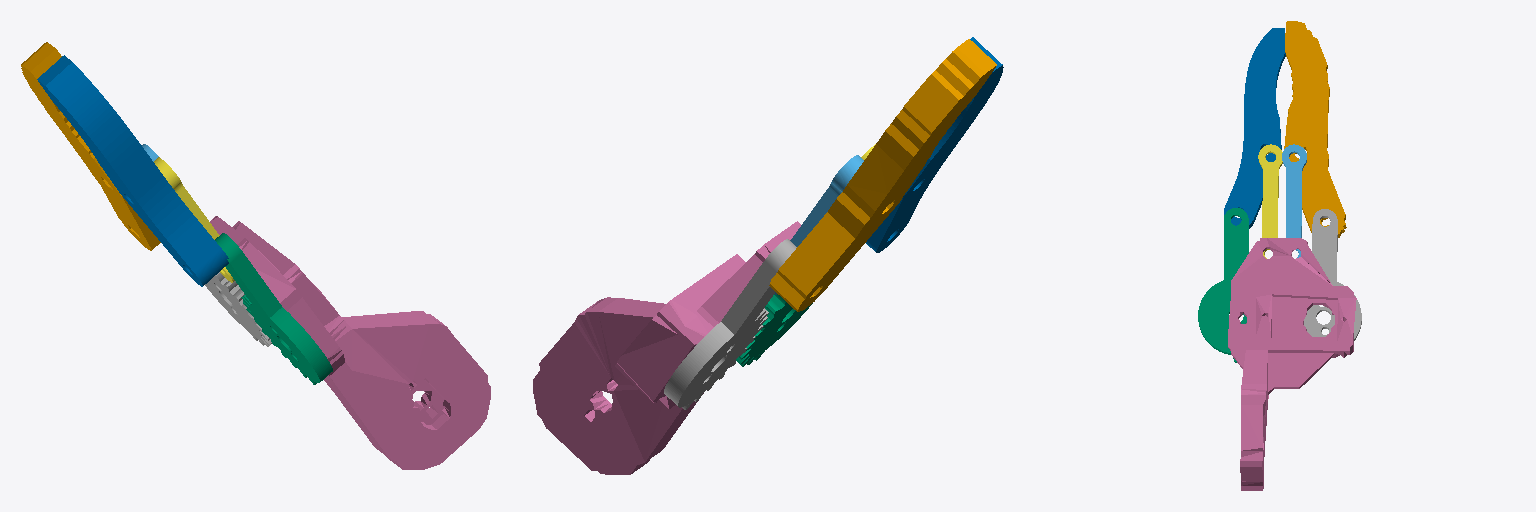
--- What the picture shows (computed from the rendered views, not written in the file) ---
The picture shows the robot from 3 angles, left to right: view 1: azimuth 30°, elevation 25°; view 2: azimuth 150°, elevation 25°; view 3: azimuth 270°, elevation 25°; orthographic projection.
Robot: tangs — 13 links, 12 joints (11 revolute, 1 fixed); root link tangs/world; default pose: all joints at 0.
Links seen in each view (by area): view 1: tangs/palm_link, tangs/r_finger_link, tangs/r_moment_arm_link, tangs/l_finger_link, tangs/l_moment_arm_link, tangs/r_truss_arm_link; view 2: tangs/palm_link, tangs/l_finger_link, tangs/l_moment_arm_link, tangs/r_finger_link, tangs/r_moment_arm_link, tangs/l_truss_arm_link; view 3: tangs/palm_link, tangs/l_finger_link, tangs/r_finger_link, tangs/r_moment_arm_link, tangs/l_moment_arm_link, tangs/l_truss_arm_link, tangs/r_truss_arm_link.
Link boxes in pixels (x1=…): tangs/palm_link: x1=210, y1=216, x2=490, y2=469; tangs/r_finger_link: x1=37, y1=55, x2=228, y2=286; tangs/r_moment_arm_link: x1=215, y1=233, x2=332, y2=384; tangs/l_finger_link: x1=21, y1=42, x2=160, y2=250; tangs/l_moment_arm_link: x1=205, y1=272, x2=271, y2=346; tangs/r_truss_arm_link: x1=154, y1=157, x2=234, y2=282; tangs/palm_link: x1=533, y1=221, x2=800, y2=474; tangs/l_finger_link: x1=769, y1=39, x2=996, y2=311; tangs/l_moment_arm_link: x1=664, y1=239, x2=796, y2=409; tangs/r_finger_link: x1=866, y1=37, x2=1003, y2=252; tangs/r_moment_arm_link: x1=736, y1=294, x2=812, y2=366; tangs/l_truss_arm_link: x1=775, y1=155, x2=863, y2=294; tangs/palm_link: x1=1228, y1=238, x2=1356, y2=490; tangs/l_finger_link: x1=1284, y1=21, x2=1346, y2=237; tangs/r_finger_link: x1=1224, y1=28, x2=1285, y2=228; tangs/r_moment_arm_link: x1=1198, y1=208, x2=1248, y2=362; tangs/l_moment_arm_link: x1=1304, y1=209, x2=1361, y2=340; tangs/l_truss_arm_link: x1=1282, y1=144, x2=1306, y2=257; tangs/r_truss_arm_link: x1=1258, y1=144, x2=1282, y2=258.
Size in the robot's own frame: 0.1138 by 0.0521 by 0.1221 metres.
7 mesh visuals loaded from 11 distinct referenced files (6 binary STL); not drawn: 5 (reference not matched to a file when rendering).

URDF robot description (tangs):
<?xml version="1.0" ?>
<!-- =================================================================================== -->
<!-- |    This document was autogenerated by xacro from /projeto_1_PosDoc/catkin_ws/src/tangs_arm/tangs_description/urdf/tangs.xacro | -->
<!-- |    EDITING THIS FILE BY HAND IS NOT RECOMMENDED                                 | -->
<!-- =================================================================================== -->
<robot name="tangs">
    <!-- Hand -->
    <gazebo reference="tangs/hand_link">
        <kp>1000000000000.0</kp>
        <kd>10</kd>
        <mu1>10.0</mu1>
        <mu2>10.0</mu2>
        <material>Gazebo/White</material>
        <selfCollide>false</selfCollide>
        <plugin name="gazebo_ros_control" filename="libgazebo_ros_control.so">
            <robotNamespace>/</robotNamespace>
        </plugin>
    </gazebo>
    <!-- Left Finger -->
    <gazebo reference="tangs/l_moment_arm_link">
        <kp>1000000000000.0</kp>
        <kd>10</kd>
        <mu1>10.0</mu1>
        <mu2>10.0</mu2>
        <material>Gazebo/White</material>
        <selfCollide>false</selfCollide>
    </gazebo>
    <gazebo reference="tangs/l_truss_arm_link">
        <kp>1000000000000.0</kp>
        <kd>10</kd>
        <mu1>10.0</mu1>
        <mu2>10.0</mu2>
        <material>Gazebo/White</material>
        <selfCollide>false</selfCollide>
    </gazebo>
    <gazebo reference="tangs/l_finger">
        <kp>1000000000000.0</kp>
        <kd>10</kd>
        <mu1>10.0</mu1>
        <mu2>10.0</mu2>
        <material>Gazebo/White</material>
        <selfCollide>false</selfCollide>
    </gazebo>
    <!-- Right Finger -->
    <gazebo reference="tangs/r_moment_arm_link">
        <kp>1000000000000.0</kp>
        <kd>10</kd>
        <mu1>10.0</mu1>
        <mu2>10.0</mu2>
        <material>Gazebo/White</material>
        <selfCollide>false</selfCollide>
    </gazebo>
    <gazebo reference="tangs/r_truss_arm_link">
        <kp>1000000000000.0</kp>
        <kd>10</kd>
        <mu1>10.0</mu1>
        <mu2>10.0</mu2>
        <material>Gazebo/White</material>
        <selfCollide>false</selfCollide>
    </gazebo>
    <gazebo reference="tangs/r_finger">
        <kp>1000000000000.0</kp>
        <kd>10</kd>
        <mu1>10.0</mu1>
        <mu2>10.0</mu2>
        <material>Gazebo/White</material>
        <selfCollide>false</selfCollide>
    </gazebo>
    <!-- Xmacro principal que gera a garra -->
    <!-- Properties -->
    <!-- Argumento para o prefixo TF -->
    <!-- Materiais -->
    <material name="Gazebo/Grey">
        <color rgba="0.7 0.7 0.7 1.0" />
    </material>
    <!-- <material name="link_body_material">
    <color rgba="0.8 0.8 0.8 1.0"/>
</material> -->
    <!-- Chamada das macros para geração do braço robótico -->
    <link name="tangs/world" />
    <link name="tangs/link_base">
        <visual>
            <origin rpy="0 0 0" xyz="0 0 0" />
            <geometry>
                <mesh filename="package://tangs_description/models/thangs3/link_base.stl" />
            </geometry>
            <material name="Gazebo/Grey" />
        </visual>
        <inertial>
            <origin rpy="0 0 0" xyz="0 0 -0.30" />
            <mass value="0.620" />
            <inertia ixx="0.010581333333333333" ixy="0" ixz="0" iyy="0.010581333333333333" iyz="0" izz="0.010581333333333333" />
        </inertial>
        <collision>
            <origin rpy="0 0 0" xyz="0 0 0.03" />
            <geometry>
                <!-- <mesh filename="package://tangs_description/models/thangs3/link_base.stl"/> -->
                <box size="0.12 0.12 0.06" />
            </geometry>
        </collision>
    </link>
    <gazebo reference="tangs/link_base">
        <kp>1000000000000.0</kp>
        <!-- static contact stiffness - very rigid, bigger values closes to the marble -->
        <kd>10</kd>
        <!-- static dynamic stiffness very rigid, bigger values closes to the marble -->
        <mu1>10.0</mu1>
        <!-- Static Friction Coeficient -->
        <mu2>10.0</mu2>
        <!-- Dynamic Friction Coeficient -->
        <material>Gazebo/Grey</material>
        <static>true</static>
        <selfCollide>true</selfCollide>
    </gazebo>
    <joint name="tangs/base_joint" type="fixed">
        <parent link="tangs/world" />
        <child link="tangs/link_base" />
        <origin rpy="0 0 0" xyz="0.0 0 0.0" />
    </joint>
    <link name="tangs/link_body">
        <visual>
            <origin rpy="0 0 0" xyz="0 0 0" />
            <geometry>
                <mesh filename="package://tangs_description/models/thangs3/link_body.stl" />
            </geometry>
            <material name="Gazebo/Grey" />
        </visual>
        <collision>
            <origin rpy="0 0 0" xyz="0 0 0" />
            <geometry>
                <!-- <cylinder radius="0.050" length="0.067" /> -->
                <mesh filename="package://tangs_description/models/thangs3/link_body.stl" />
            </geometry>
        </collision>
        <inertial>
            <origin rpy="0 0 0" xyz="-6.44e-03 1.36e-03 1.73e-02" />
            <mass value="8.50e-02" />
            <inertia ixx="0.002" ixy="0.0" ixz="0.0" iyy="0.02" iyz="0.0" izz="0.002" />
        </inertial>
    </link>
    <joint name="tangs/waist" type="revolute">
        <origin rpy="0 0 1.55" xyz="0 0 5.60e-02" />
        <parent link="tangs/link_base" />
        <child link="tangs/link_body" />
        <axis xyz="0 0 1" />
        <limit effort="300" lower="-1.570796327" upper="1.570796327" velocity="3" />
        <dynamics damping="0.3" friction="0.0" />
    </joint>
    <gazebo reference="tangs/link_body">
        <kp>1000000000000.0</kp>
        <!-- static contact stiffness - very rigid, bigger values closes to the marble -->
        <kd>10</kd>
        <!-- static dynamic stiffness very rigid, bigger values closes to the marble -->
        <mu1>10.0</mu1>
        <!-- Static Friction Coeficient -->
        <mu2>10.0</mu2>
        <!-- Dynamic Friction Coeficient -->
        <material>Gazebo/Grey</material>
        <selfCollide>true</selfCollide>
    </gazebo>
    <transmission name="tran1">
        <type>transmission_interface/SimpleTransmission</type>
        <joint name="tangs/waist">
            <hardwareInterface>hardware_interface/PositionJointInterface</hardwareInterface>
        </joint>
        <actuator name="motor1">
            <hardwareInterface>hardware_interface/PositionJointInterface</hardwareInterface>
            <mechanicalReduction>1</mechanicalReduction>
        </actuator>
    </transmission>
    <link name="tangs/link_arm">
        <visual>
            <origin rpy="3.141592654 0 -1.570796327" xyz="-5.77e-02 6.02e-04 0" />
            <geometry>
                <mesh filename="package://tangs_description/models/thangs3/link_arm.stl" />
            </geometry>
            <material name="Gazebo/Grey" />
        </visual>
        <collision>
            <origin rpy="3.141592654 0 -1.570796327" xyz="-5.77e-02 6.02e-04 0" />
            <geometry>
                <mesh filename="package://tangs_description/models/thangs3/link_arm.stl" />
            </geometry>
        </collision>
        <inertial>
            <origin rpy="0 0 0" xyz="-5.92e-02 0 -7.79e-03" />
            <mass value="8.50e-03" />
            <inertia ixx="0.002" ixy="0.0" ixz="0.0" iyy="0.02" iyz="0.0" izz="0.002" />
        </inertial>
    </link>
    <joint name="tangs/shoulder" type="revolute">
        <origin rpy="1.570796327 1.570796327 -1.570796327" xyz="-4.00e-03 1.40e-02 4.03e-02" />
        <parent link="tangs/link_body" />
        <child link="tangs/link_arm" />
        <axis xyz="0 0 1" />
        <limit effort="200" lower="-1.570796327" upper="1.570796327" velocity="3" />
        <joint_properties friction="0.0" />
    </joint>
    <gazebo reference="tangs/link_arm">
        <kp>1000000000000.0</kp>
        <kd>10</kd>
        <!-- static dynamic stiffness very rigid, bigger values closes to the marble -->
        <mu1>10.0</mu1>
        <!-- Static Friction Coeficient -->
        <mu2>10.0</mu2>
        <!-- Dynamic Friction Coeficient -->
        <material>Gazebo/Grey</material>
        <selfCollide>true</selfCollide>
    </gazebo>
    <transmission name="tran2">
        <type>transmission_interface/SimpleTransmission</type>
        <joint name="tangs/shoulder">
            <hardwareInterface>hardware_interface/PositionJointInterface</hardwareInterface>
        </joint>
        <actuator name="motor2">
            <hardwareInterface>hardware_interface/PositionJointInterface</hardwareInterface>
            <mechanicalReduction>1</mechanicalReduction>
        </actuator>
    </transmission>
    <link name="tangs/link_forearm">
        <visual>
            <origin rpy="-3.141592654 0 0" xyz="0 -3.22e-02 6.00e-03" />
            <geometry>
                <mesh filename="package://tangs_description/models/thangs3/link_forearm.stl" />
            </geometry>
            <material name="Gazebo/Grey" />
        </visual>
        <collision>
            <origin rpy="-3.141592654 0 0" xyz="0 -3.22e-02 6.00e-03" />
            <geometry>
                <mesh filename="package://tangs_description/models/thangs3/link_forearm.stl" />
            </geometry>
        </collision>
        <inertial>
            <origin rpy="0 0 0" xyz="0 -3.93e-02 -7.40e-03" />
            <mass value="5.28e-03" />
            <inertia ixx="0.002" ixy="0.0" ixz="0.0" iyy="0.02" iyz="0.0" izz="0.002" />
        </inertial>
    </link>
    <joint name="tangs/elbow" type="revolute">
        <origin rpy="3.141592654 0 6.09e-01" xyz="-1.20e-01 0 0" />
        <parent link="tangs/link_arm" />
        <child link="tangs/link_forearm" />
        <axis xyz="0 0 1" />
        <limit effort="200" lower="-2.5" upper="0.6" velocity="3" />
        <joint_properties friction="0.0" />
    </joint>
    <gazebo reference="tangs/link_forearm">
        <kp>1000000000000.0</kp>
        <!-- static contact stiffness - very rigid, bigger values closes to the marble -->
        <kd>10</kd>
        <!-- static dynamic stiffness very rigid, bigger values closes to the marble -->
        <mu1>10.0</mu1>
        <!-- Static Friction Coeficient -->
        <mu2>10.0</mu2>
        <!-- Dynamic Friction Coeficient -->
        <material>Gazebo/Grey</material>
        <selfCollide>true</selfCollide>
    </gazebo>
    <transmission name="tran3">
        <type>transmission_interface/SimpleTransmission</type>
        <joint name="tangs/elbow">
            <hardwareInterface>hardware_interface/PositionJointInterface</hardwareInterface>
        </joint>
        <actuator name="motor3">
            <hardwareInterface>hardware_interface/PositionJointInterface</hardwareInterface>
            <mechanicalReduction>1</mechanicalReduction>
        </actuator>
    </transmission>
    <link name="tangs/link_hand">
        <visual>
            <origin rpy="-1.570796327 0 0" xyz="4.99e-03 -1.40e-02 -2.30e-02" />
            <geometry>
                <mesh filename="package://tangs_description/models/thangs3/link_hand.stl" />
            </geometry>
            <material name="Gazebo/Grey" />
        </visual>
        <collision>
            <origin rpy="-1.570796327 0 0" xyz="4.99e-03 -1.40e-02 -2.30e-02" />
            <geometry>
                <mesh filename="package://tangs_description/models/thangs3/link_hand.stl" />
            </geometry>
        </collision>
        <inertial>
            <origin rpy="0 0 0" xyz="5.03e-03 -6.14e-03 -1.77e-02" />
            <mass value="1.83e-03" />
            <inertia ixx="0.002" ixy="0.0" ixz="0.0" iyy="0.02" iyz="0.0" izz="0.002" />
        </inertial>
    </link>
    <joint name="tangs/wrist_yaw" type="revolute">
        <origin rpy="-1.570796327 0 0" xyz="-5.31e-03 -8.97e-02 -7.51e-03" />
        <parent link="tangs/link_forearm" />
        <child link="tangs/link_hand" />
        <axis xyz="0 0 1" />
        <limit effort="200" lower="-1.570796327" upper="1.570796327" velocity="20" />
        <joint_properties friction="0.0" />
    </joint>
    <gazebo reference="tangs/link_hand">
        <kp>1000000000000.0</kp>
        <!-- static contact stiffness - very rigid, bigger values closes to the marble -->
        <kd>10</kd>
        <!-- static dynamic stiffness very rigid, bigger values closes to the marble -->
        <mu1>10.0</mu1>
        <!-- Static Friction Coeficient -->
        <mu2>10.0</mu2>
        <!-- Dynamic Friction Coeficient -->
        <material name="Gazebo/Grey" />
        <selfCollide>true</selfCollide>
    </gazebo>
    <transmission name="tran4">
        <type>transmission_interface/SimpleTransmission</type>
        <joint name="tangs/wrist_yaw">
            <hardwareInterface>hardware_interface/PositionJointInterface</hardwareInterface>
        </joint>
        <actuator name="motor4">
            <hardwareInterface>hardware_interface/PositionJointInterface</hardwareInterface>
            <mechanicalReduction>1</mechanicalReduction>
        </actuator>
    </transmission>
    <link name="tangs/palm_link">
        <collision>
            <origin rpy="3.141592654 -3.141592654 0.0" xyz="0.015 0.015 -0.018" />
            <geometry>
                <!-- <mesh filename="package://gripper_description/meshes/collision/RG3_Palm_col.stl"/> -->
                <mesh filename="package://gripper_description/meshes/visual/RG3_gripper_base_m_tk2.stl" />
            </geometry>
        </collision>
        <visual>
            <!-- <origin xyz="0.00 0.0015 -0.014" rpy="0.00 0.00 0.00"/> -->
            <origin rpy="3.141592654 -3.141592654 0.0" xyz="0.015 0.015 -0.018" />
            <geometry>
                <mesh filename="package://gripper_description/meshes/visual/RG3_gripper_base_m_tk2.stl" />
            </geometry>
        </visual>
        <inertial>
            <origin rpy="0.00 0.00 0.00" xyz="-0.061902 0.000129 -0.000005" />
            <mass value="0.02" />
            <inertia ixx="0.002" ixy="0.0" ixz="0.0" iyy="0.02" iyz="0.0" izz="0.002" />
        </inertial>
    </link>
    <link name="tangs/l_moment_arm_link">
        <collision>
            <origin rpy="0.00 0.00 3.01415" xyz="0.01 -0.0021 0.0005" />
            <geometry>
                <mesh filename="package://gripper_description/meshes/visual/RG3_gear_left_m.stl" />
            </geometry>
        </collision>
        <visual>
            <origin rpy="0.00 0.00 3.01415" xyz="0.01 -0.0021 0.0005" />
            <geometry>
                <mesh filename="package://gripper_description/meshes/visual/RG3_gear_left_m.stl" />
            </geometry>
        </visual>
        <inertial>
            <origin rpy="0.00 0.00 0.00" xyz="0.017004 0.006397 -0.010300" />
            <mass value="0.0060209" />
            <inertia ixx="0.002" ixy="0.0" ixz="0.0" iyy="0.02" iyz="0.0" izz="0.002" />
        </inertial>
    </link>
    <link name="tangs/l_finger_link">
        <collision>
            <origin rpy="0.00 0.00 -0.38" xyz="0.030 -0.005 0.0045" />
            <geometry>
                <mesh filename="package://gripper_description/meshes/visual/RG3_grip_finger_left_m.stl" />
            </geometry>
        </collision>
        <visual>
            <origin rpy="0.00 0.00 -0.38" xyz="0.030 -0.005 0.0045" />
            <geometry>
                <mesh filename="package://gripper_description/meshes/visual/RG3_grip_finger_left_m.stl" />
            </geometry>
        </visual>
        <inertial>
            <origin rpy="0.00 0.00 0.00" xyz="0.024695 -0.010178 -0.010001" />
            <mass value="0.0081638" />
            <inertia ixx="0.002" ixy="0.0" ixz="0.0" iyy="0.02" iyz="0.0" izz="0.002" />
        </inertial>
    </link>
    <link name="tangs/l_truss_arm_link">
        <collision>
            <origin rpy="0.00 0.00 0" xyz="0.016 0.00 0.00" />
            <geometry>
                <mesh filename="package://gripper_description/meshes/visual/RG3_grip_link_left_m.stl" />
            </geometry>
        </collision>
        <visual>
            <origin rpy="0.00 0.00 0" xyz="0.016 0.00 0.00" />
            <geometry>
                <mesh filename="package://gripper_description/meshes/visual/RG3_grip_link_left_m.stl" />
            </geometry>
        </visual>
        <inertial>
            <origin rpy="0.00 0.00 0.00" xyz="0.023075 0.012136 -0.010000" />
            <mass value="0.0065927" />
            <inertia ixx="0.002" ixy="0.0" ixz="0.0" iyy="0.02" iyz="0.0" izz="0.002" />
        </inertial>
    </link>
    <link name="tangs/r_moment_arm_link">
        <collision>
            <origin rpy="0.00 0.00 3.000415" xyz="0.01 -0.0111 0.0005" />
            <geometry>
                <mesh filename="package://gripper_description/meshes/visual/RG3_gear_right_m.stl" />
            </geometry>
        </collision>
        <visual>
            <origin rpy="0.00 0.00 3.000415" xyz="0.01 -0.0111 0.0005" />
            <geometry>
                <mesh filename="package://gripper_description/meshes/visual/RG3_gear_right_m.stl" />
            </geometry>
        </visual>
        <inertial>
            <origin rpy="0.00 0.00 0.00" xyz="0.017004 -0.006397 -0.010300" />
            <mass value="0.0060209" />
            <inertia ixx="0.002" ixy="0.0" ixz="0.0" iyy="0.02" iyz="0.0" izz="0.002" />
        </inertial>
    </link>
    <link name="tangs/r_truss_arm_link">
        <collision>
            <origin rpy="0.0 0.0 0.0" xyz="0.016 -0.000 0.0045" />
            <geometry>
                <mesh filename="package://gripper_description/meshes/visual/RG3_grip_link_left_m.stl" />
            </geometry>
        </collision>
        <visual>
            <origin rpy="0.00 0.00 0.0" xyz="0.016 -0.000 0.0045" />
            <geometry>
                <mesh filename="package://gripper_description/meshes/visual/RG3_grip_link_left_m.stl" />
            </geometry>
        </visual>
        <inertial>
            <origin rpy="0.00 0.00 0.00" xyz="0.023075 -0.012136 -0.010000" />
            <mass value="0.0065927" />
            <inertia ixx="0.002" ixy="0.0" ixz="0.0" iyy="0.02" iyz="0.0" izz="0.002" />
        </inertial>
    </link>
    <link name="tangs/r_finger_link">
        <collision>
            <origin rpy="0.00 3.1415 0.38" xyz="0.022 0.026 0.020" />
            <geometry>
                <mesh filename="package://gripper_description/meshes/visual/gear_right3.stl" />
            </geometry>
        </collision>
        <visual>
            <origin rpy="0.00 3.1415 0.38" xyz="0.022 0.026 0.020" />
            <geometry>
                <mesh filename="package://gripper_description/meshes/visual/gear_right3.stl" />
            </geometry>
        </visual>
        <inertial>
            <origin rpy="0.00 0.00 0.00" xyz="0.024695 0.010178 -0.010000" />
            <mass value="0.0081637" />
            <inertia ixx="0.002" ixy="0.0" ixz="0.0" iyy="0.02" iyz="0.0" izz="0.002" />
        </inertial>
    </link>
    <!-- Juntas -->
    <joint name="tangs/gripper_joint" type="revolute">
        <parent link="tangs/palm_link" />
        <child link="tangs/l_moment_arm_link" />
        <origin rpy="0 0 3.141592654" xyz="-0.042 -0.005 0.012" />
        <axis xyz="0 0 1" />
        <limit effort="200" lower="0" upper="1.570796327" velocity="3.0" />
        <dynamics damping="0.3" friction="0.0" />
        <implicitSpringDamper>True</implicitSpringDamper>
    </joint>
    <transmission name="tangs/gripper_joint_tran">
        <type>transmission_interface/SimpleTransmission</type>
        <joint name="tangs/gripper_joint">
            <hardwareInterface>hardware_interface/PositionJointInterface</hardwareInterface>
        </joint>
        <actuator name="tangs/gripper_joint_motor">
            <hardwareInterface>hardware_interface/PositionJointInterface</hardwareInterface>
            <mechanicalReduction>1</mechanicalReduction>
        </actuator>
    </transmission>
    <joint name="tangs/l_finger_2_joint" type="revolute">
        <parent link="tangs/l_moment_arm_link" />
        <child link="tangs/l_finger_link" />
        <origin rpy="0 0 0" xyz="0.0315 0.0008 0.000" />
        <axis xyz="0 0 1" />
        <limit effort="10.6" lower="-1.570796327" upper="1.570796327" velocity="3.14" />
        <!-- <limit velocity="3.14" effort="100" lower="-3" upper="3" /> -->
        <mimic joint="tangs/gripper_joint" multiplier="-1" />
        <dynamics damping="0.3" friction="0.0" />
        <implicitSpringDamper>True</implicitSpringDamper>
    </joint>
    <!-- Atenção: esta linha abaixo gera problemas na garra!!! -->
    <!-- <xacro:insert_transmission name="${tf_prefix}/l_finger_2_joint" />  -->
    <gazebo>
        <plugin filename="libroboticsgroup_gazebo_mimic_joint_plugin.so" name="tangs/l_finger_2_jointmimic_joint_plugin">
            <joint>tangs/gripper_joint</joint>
            <mimicJoint>tangs/l_finger_2_joint</mimicJoint>
            <multiplier>-1.0</multiplier>
            <offset>0</offset>
            <sensitiveness>0.0</sensitiveness>
            <!-- if absolute difference between setpoint and process value is below this threshold, do nothing; 0.0 = disable [rad] -->
            <maxEffort>10.6</maxEffort>
        </plugin>
    </gazebo>
    <joint name="tangs/l_finger_passive_joint" type="revolute">
        <parent link="tangs/palm_link" />
        <child link="tangs/l_truss_arm_link" />
        <origin rpy="0 0 3.141592654" xyz="-0.062 0.0045 0.012" />
        <axis xyz="0 0 1" />
        <limit effort="10.6" lower="-1.570796327" upper="1.570796327" velocity="3.14" />
        <mimic joint="tangs/gripper_joint" multiplier="1" />
        <dynamics damping="0.3" friction="0.0" />
        <implicitSpringDamper>True</implicitSpringDamper>
    </joint>
    <gazebo>
        <plugin filename="libroboticsgroup_gazebo_mimic_joint_plugin.so" name="tangs/l_finger_passive_jointmimic_joint_plugin">
            <joint>tangs/gripper_joint</joint>
            <mimicJoint>tangs/l_finger_passive_joint</mimicJoint>
            <multiplier>1.0</multiplier>
            <offset>0</offset>
            <sensitiveness>0.0</sensitiveness>
            <!-- if absolute difference between setpoint and process value is below this threshold, do nothing; 0.0 = disable [rad] -->
            <maxEffort>10.6</maxEffort>
        </plugin>
    </gazebo>
    <joint name="tangs/r_finger_1_joint" type="revolute">
        <parent link="tangs/palm_link" />
        <child link="tangs/r_moment_arm_link" />
        <origin rpy="0 0 3.141592654" xyz="-0.042 0.022 0.008" />
        <axis xyz="0 0 1" />
        <limit effort="10.6" lower="-1.570796327" upper="1.570796327" velocity="3.14" />
        <mimic joint="tangs/gripper_joint" multiplier="-1" />
        <dynamics damping="0.3" friction="0.0" />
        <implicitSpringDamper>True</implicitSpringDamper>
    </joint>
    <gazebo>
        <plugin filename="libroboticsgroup_gazebo_mimic_joint_plugin.so" name="tangs/r_finger_1_jointmimic_joint_plugin">
            <joint>tangs/gripper_joint</joint>
            <mimicJoint>tangs/r_finger_1_joint</mimicJoint>
            <multiplier>-1.0</multiplier>
            <offset>0</offset>
            <sensitiveness>0.0</sensitiveness>
            <!-- if absolute difference between setpoint and process value is below this threshold, do nothing; 0.0 = disable [rad] -->
            <maxEffort>10.6</maxEffort>
        </plugin>
    </gazebo>
    <joint name="tangs/r_finger_passive_joint" type="revolute">
        <parent link="tangs/palm_link" />
        <child link="tangs/r_truss_arm_link" />
        <origin rpy="0 0 3.141592654" xyz="-0.062 0.012 0.008" />
        <axis xyz="0 0 1" />
        <limit effort="10.6" lower="-1.570796327" upper="1.570796327" velocity="3.14" />
        <mimic joint="tangs/gripper_joint" multiplier="-1" />
        <dynamics damping="0.3" friction="0.0" />
        <implicitSpringDamper>True</implicitSpringDamper>
    </joint>
    <gazebo>
        <plugin filename="libroboticsgroup_gazebo_mimic_joint_plugin.so" name="tangs/r_finger_passive_jointmimic_joint_plugin">
            <joint>tangs/gripper_joint</joint>
            <mimicJoint>tangs/r_finger_passive_joint</mimicJoint>
            <multiplier>-1.0</multiplier>
            <offset>0</offset>
            <sensitiveness>0.0</sensitiveness>
            <!-- if absolute difference between setpoint and process value is below this threshold, do nothing; 0.0 = disable [rad] -->
            <maxEffort>10.6</maxEffort>
        </plugin>
    </gazebo>
    <joint name="tangs/r_finger_2_joint" type="revolute">
        <parent link="tangs/r_moment_arm_link" />
        <child link="tangs/r_finger_link" />
        <origin rpy="0 0 0" xyz="0.032 -0.0015 0.005" />
        <axis xyz="0 0 1" />
        <limit effort="10.6" lower="-1.570796327" upper="1.570796327" velocity="3.14" />
        <mimic joint="tangs/gripper_joint" multiplier="1" />
        <dynamics damping="0.3" friction="0.0" />
        <implicitSpringDamper>True</implicitSpringDamper>
    </joint>
    <gazebo>
        <plugin filename="libroboticsgroup_gazebo_mimic_joint_plugin.so" name="tangs/r_finger_2_jointmimic_joint_plugin">
            <joint>tangs/gripper_joint</joint>
            <mimicJoint>tangs/r_finger_2_joint</mimicJoint>
            <multiplier>1.0</multiplier>
            <offset>0</offset>
            <sensitiveness>0.0</sensitiveness>
            <!-- if absolute difference between setpoint and process value is below this threshold, do nothing; 0.0 = disable [rad] -->
            <maxEffort>10.6</maxEffort>
        </plugin>
    </gazebo>
    <joint name="tangs/wrist_pitch" type="revolute">
        <origin rpy="0 -3.81e-02 0" xyz="0.00 -1.40e-02 -2.80e-02" />
        <parent link="tangs/link_hand" />
        <child link="tangs/palm_link" />
        <!-- Nome do link inicial do gripper-->
        <axis xyz="0 1 0" />
        <limit effort="200" lower="-3.141592654" upper="0" velocity="20" />
        <joint_properties friction="0.0" />
    </joint>
    <gazebo reference="tangs/palm_link">
        <kp>1000000000000.0</kp>
        <!-- static contact stiffness - very rigid, bigger values closes to the marble -->
        <kd>10</kd>
        <!-- static dynamic stiffness very rigid, bigger values closes to the marble -->
        <mu1>10.0</mu1>
        <!-- Static Friction Coeficient -->
        <mu2>10.0</mu2>
        <!-- Dynamic Friction Coeficient -->
        <material>Gazebo/Grey</material>
        <selfCollide>true</selfCollide>
    </gazebo>
    <transmission name="tran5">
        <type>transmission_interface/SimpleTransmission</type>
        <joint name="tangs/wrist_pitch">
            <hardwareInterface>hardware_interface/PositionJointInterface</hardwareInterface>
        </joint>
        <actuator name="motor5">
            <hardwareInterface>hardware_interface/PositionJointInterface</hardwareInterface>
            <mechanicalReduction>1</mechanicalReduction>
        </actuator>
    </transmission>
    <gazebo>
        <plugin filename="libgazebo_ros_control.so" name="gazebo_ros_control">
            <robotNamespace>/</robotNamespace>
        </plugin>
    </gazebo>
    <transmission name="trans_tangs/l_finger_2_joint">
        <type>transmission_interface/SimpleTransmission</type>
        <joint name="tangs/l_finger_2_joint">
            <hardwareInterface>hardware_interface/EffortJointInterface</hardwareInterface>
        </joint>
        <actuator name="tangs/l_finger_2_joint_motor">
            <hardwareInterface>hardware_interface/EffortJointInterface</hardwareInterface>
            <mechanicalReduction>1</mechanicalReduction>
        </actuator>
    </transmission>
    <transmission name="trans_tangs/l_finger_passive_joint">
        <type>transmission_interface/SimpleTransmission</type>
        <joint name="tangs/l_finger_passive_joint">
            <hardwareInterface>hardware_interface/EffortJointInterface</hardwareInterface>
        </joint>
        <actuator name="tangs/l_finger_passive_joint_motor">
            <hardwareInterface>hardware_interface/EffortJointInterface</hardwareInterface>
            <mechanicalReduction>1</mechanicalReduction>
        </actuator>
    </transmission>
    <transmission name="trans_tangs/r_finger_1_joint">
        <type>transmission_interface/SimpleTransmission</type>
        <joint name="tangs/r_finger_1_joint">
            <hardwareInterface>hardware_interface/EffortJointInterface</hardwareInterface>
        </joint>
        <actuator name="tangs/r_finger_1_joint_motor">
            <hardwareInterface>hardware_interface/EffortJointInterface</hardwareInterface>
            <mechanicalReduction>1</mechanicalReduction>
        </actuator>
    </transmission>
    <transmission name="trans_tangs/r_finger_passive_joint">
        <type>transmission_interface/SimpleTransmission</type>
        <joint name="tangs/r_finger_passive_joint">
            <hardwareInterface>hardware_interface/EffortJointInterface</hardwareInterface>
        </joint>
        <actuator name="tangs/r_finger_passive_joint_motor">
            <hardwareInterface>hardware_interface/EffortJointInterface</hardwareInterface>
            <mechanicalReduction>1</mechanicalReduction>
        </actuator>
    </transmission>
    <transmission name="trans_tangs/r_finger_2_joint">
        <type>transmission_interface/SimpleTransmission</type>
        <joint name="tangs/r_finger_2_joint">
            <hardwareInterface>hardware_interface/EffortJointInterface</hardwareInterface>
        </joint>
        <actuator name="tangs/r_finger_2_joint_motor">
            <hardwareInterface>hardware_interface/EffortJointInterface</hardwareInterface>
            <mechanicalReduction>1</mechanicalReduction>
        </actuator>
    </transmission>
</robot>
